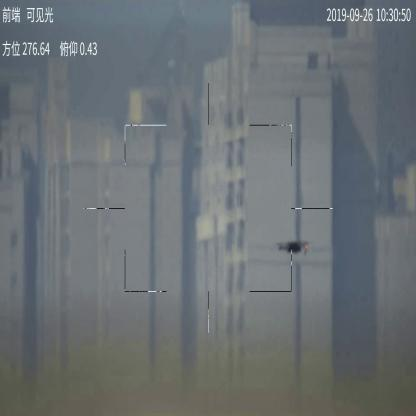uav: (268, 238, 310, 256)
